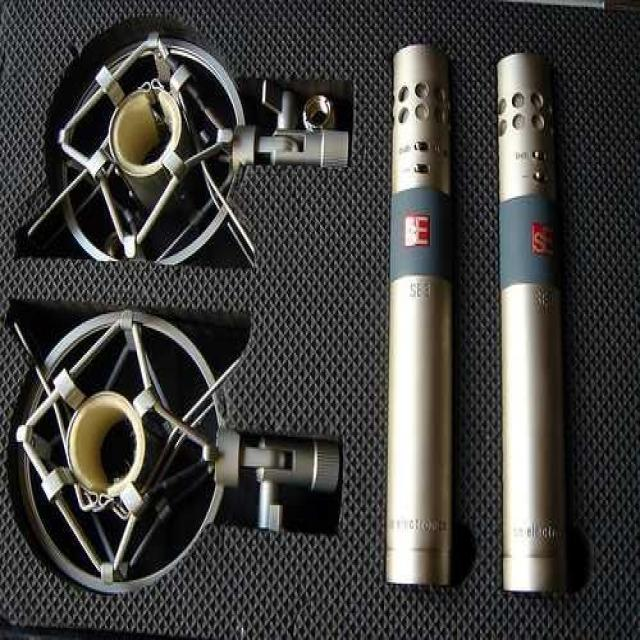microphone: (495, 53, 568, 594), (386, 50, 455, 586), (211, 426, 349, 536), (230, 78, 354, 170)
